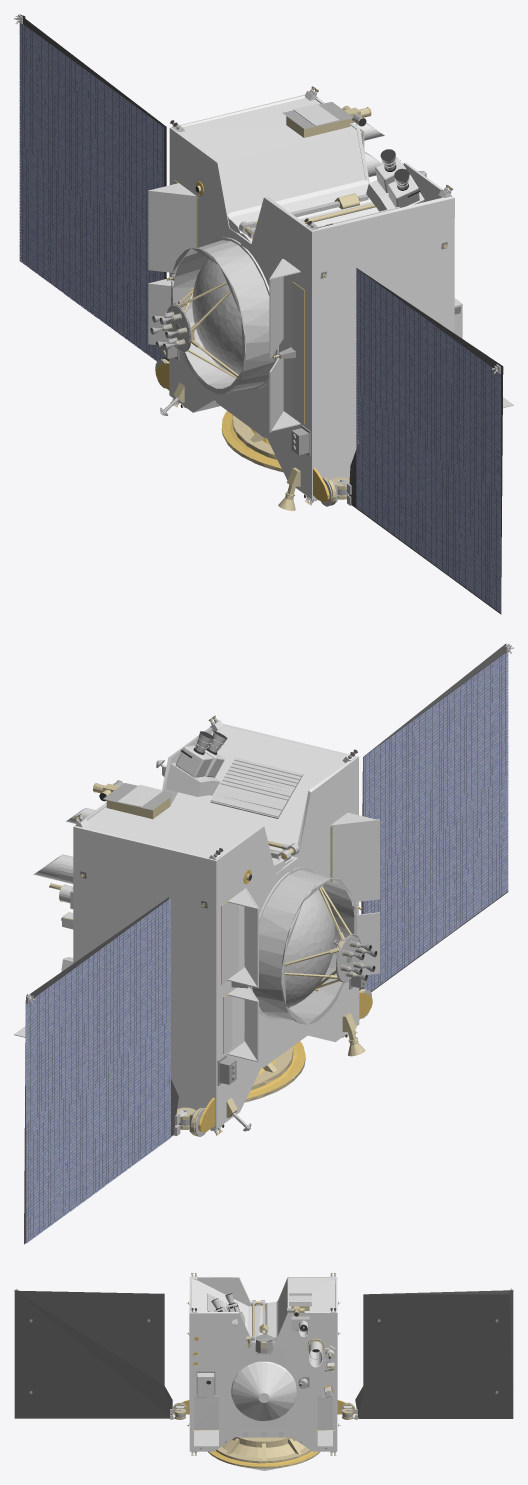
Rendered from osirisrex.glb.
3 renders of one model, top to bottom at view 1: azimuth 30°, elevation 25°; view 2: azimuth 150°, elevation 25°; view 3: azimuth 270°, elevation 25°, orthographic. The views are drawn at different scales.
Visible parts, largest first — view 1: Main Layer; view 2: Main Layer; view 3: Main Layer.
Boxes of the visible parts, x1,y1,x2,y2 form: Main Layer: (14,14,513,614); Main Layer: (14,643,513,1244); Main Layer: (14,1273,513,1470).
Size of the model in its own units: 2.91 by 3.33 by 8.4.
